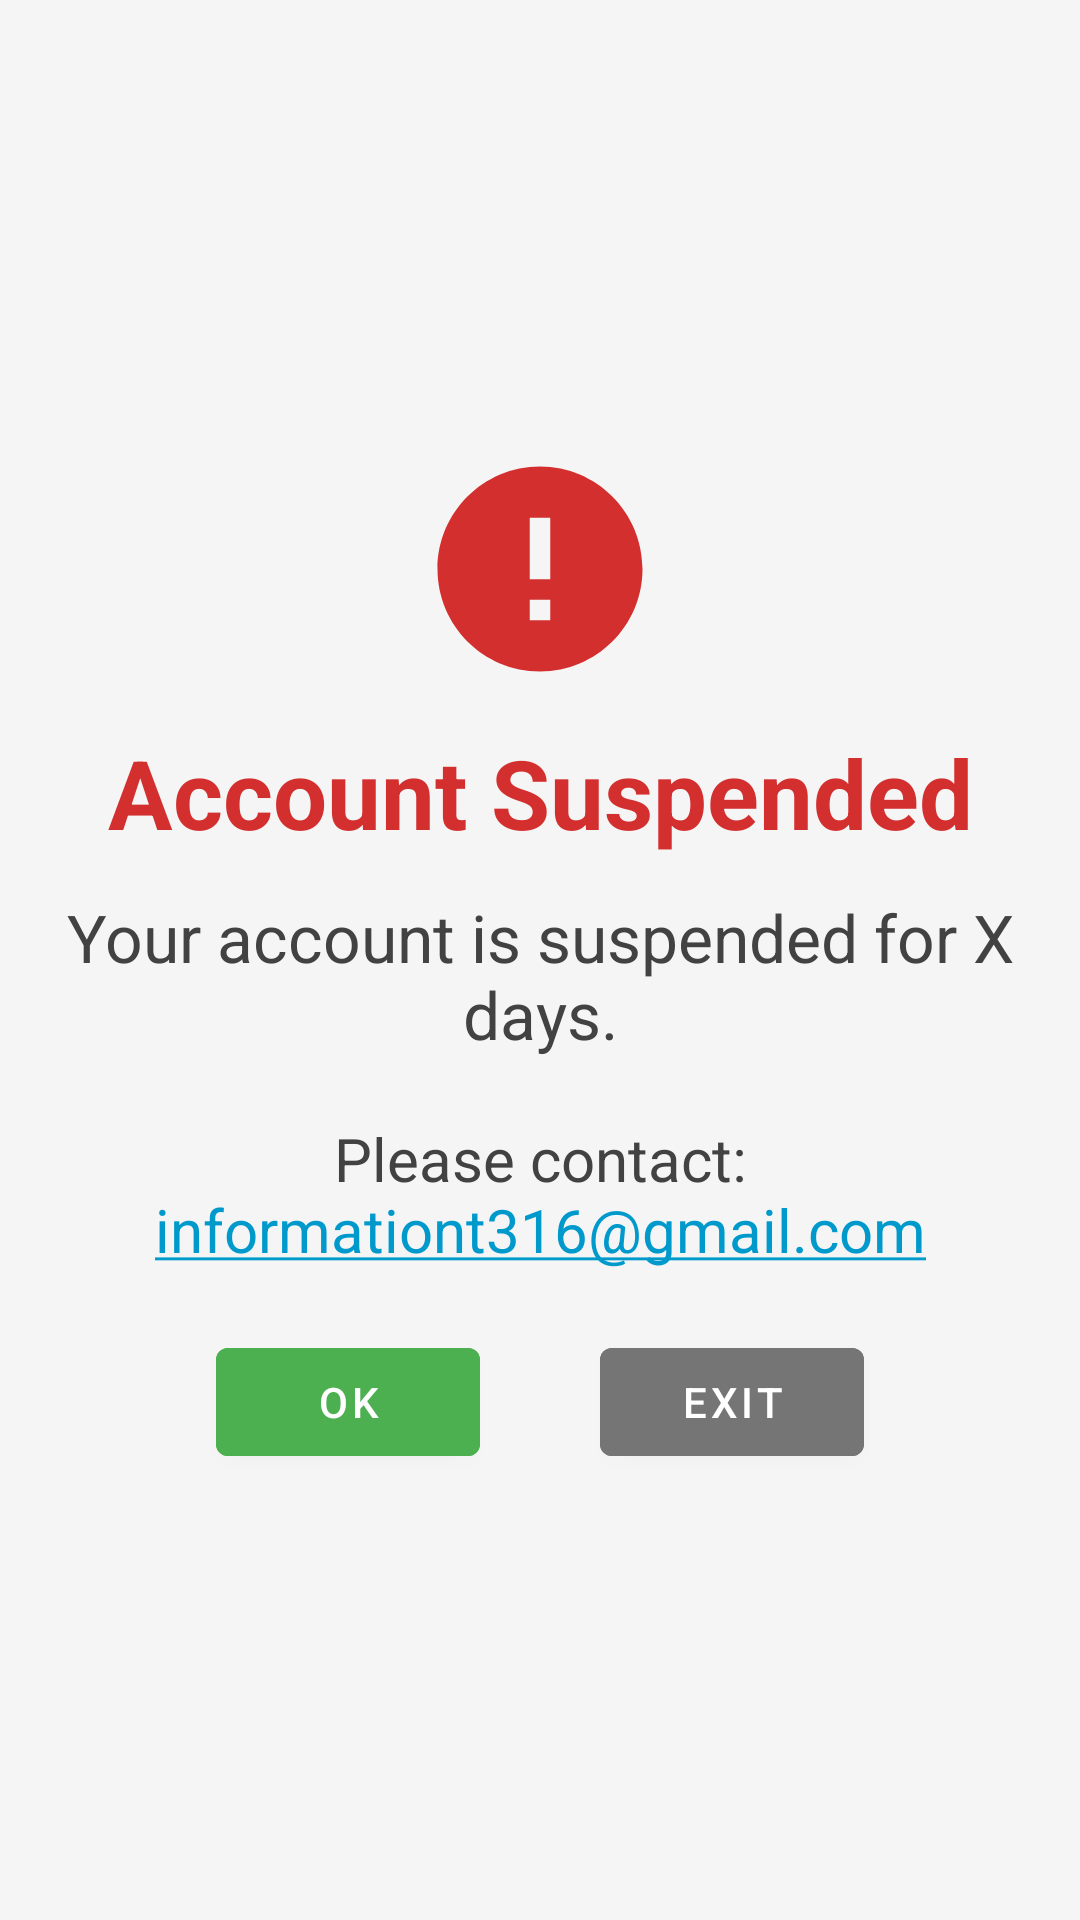

Icon click points for this 1080px×1920px phone screenshot, format [x,y]:
warning: [540,569]
